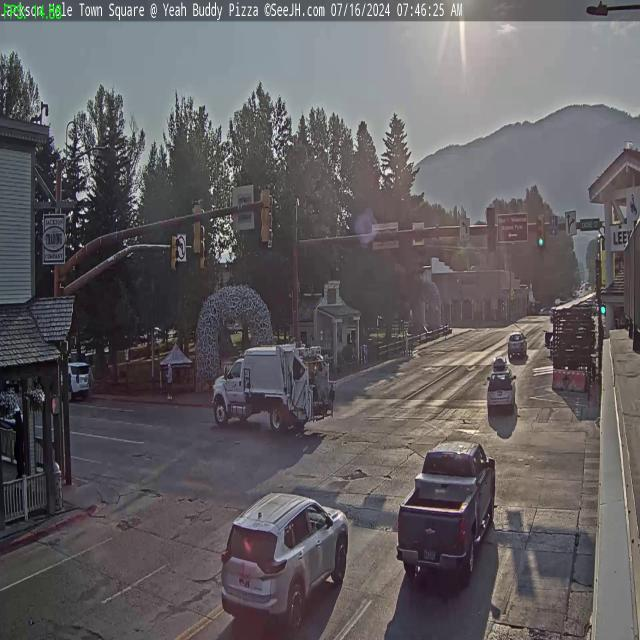pickup: (397, 435, 497, 578)
suv: (216, 484, 350, 640), (486, 369, 516, 414), (64, 358, 94, 403), (507, 330, 527, 360)
traffic light: (260, 184, 273, 246), (191, 199, 203, 257), (486, 208, 497, 253), (170, 227, 180, 275), (536, 214, 544, 248)
truck: (210, 338, 325, 440)
